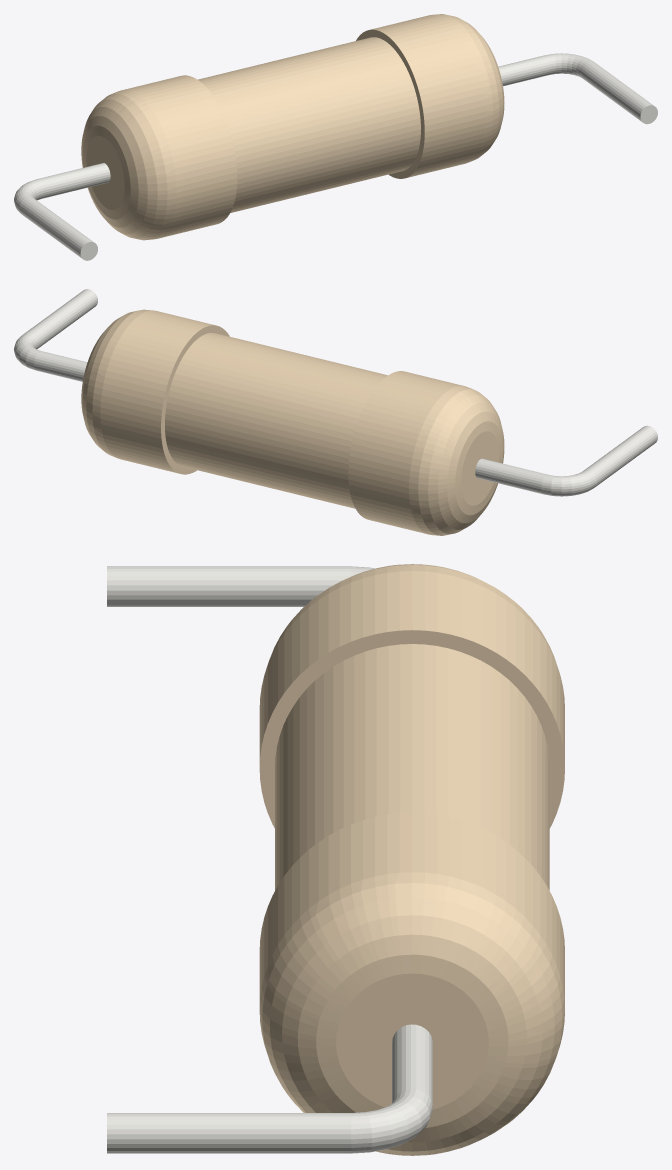
File: R_Axial_DIN0617_L17.0mm_D6.0mm_P25.40mm_Horizontal.glb
3 views of the same model, one above another, from view 1: azimuth 30°, elevation 25°; view 2: azimuth 150°, elevation 25°; view 3: azimuth 270°, elevation 25° (orthographic). The views are drawn at different scales.
Visible parts, largest first — view 1: Shape_IndexedFaceSet.004, Shape_IndexedFaceSet.008, Shape_IndexedFaceSet, Shape_IndexedFaceSet.010, Shape_IndexedFaceSet.001, Shape_IndexedFaceSet.012, Shape_IndexedFaceSet.009, Shape_IndexedFaceSet.015, Shape_IndexedFaceSet.013, Shape_IndexedFaceSet.005, Shape_IndexedFaceSet.002, Shape_IndexedFaceSet.007 (+1 smaller); view 2: Shape_IndexedFaceSet.004, Shape_IndexedFaceSet, Shape_IndexedFaceSet.008, Shape_IndexedFaceSet.010, Shape_IndexedFaceSet.001, Shape_IndexedFaceSet.012, Shape_IndexedFaceSet.009, Shape_IndexedFaceSet.015, Shape_IndexedFaceSet.013, Shape_IndexedFaceSet.014, Shape_IndexedFaceSet.005, Shape_IndexedFaceSet.002 (+1 smaller); view 3: Shape_IndexedFaceSet.001, Shape_IndexedFaceSet.004, Shape_IndexedFaceSet, Shape_IndexedFaceSet.008, Shape_IndexedFaceSet.003, Shape_IndexedFaceSet.009, Shape_IndexedFaceSet.015, Shape_IndexedFaceSet.006, Shape_IndexedFaceSet.007, Shape_IndexedFaceSet.005, Shape_IndexedFaceSet.010.
Boxes of the visible parts, x1,y1,x2,y2 form: Shape_IndexedFaceSet.004: [198, 37, 420, 212]; Shape_IndexedFaceSet.008: [122, 75, 237, 238]; Shape_IndexedFaceSet: [371, 15, 485, 177]; Shape_IndexedFaceSet.010: [81, 90, 176, 240]; Shape_IndexedFaceSet.001: [432, 14, 504, 161]; Shape_IndexedFaceSet.012: [86, 135, 124, 210]; Shape_IndexedFaceSet.009: [579, 60, 653, 121]; Shape_IndexedFaceSet.015: [19, 197, 93, 258]; Shape_IndexedFaceSet.013: [37, 163, 110, 198]; Shape_IndexedFaceSet.005: [498, 55, 551, 86]; Shape_IndexedFaceSet.002: [356, 29, 424, 178]; Shape_IndexedFaceSet.007: [545, 53, 591, 77]; Shape_IndexedFaceSet.004: [165, 333, 387, 508]; Shape_IndexedFaceSet: [100, 310, 214, 473]; Shape_IndexedFaceSet.008: [348, 371, 463, 534]; Shape_IndexedFaceSet.010: [409, 386, 504, 535]; Shape_IndexedFaceSet.001: [81, 309, 153, 457]; Shape_IndexedFaceSet.012: [461, 431, 499, 505]; Shape_IndexedFaceSet.009: [23, 289, 97, 349]; Shape_IndexedFaceSet.015: [583, 425, 657, 486]; Shape_IndexedFaceSet.013: [475, 458, 547, 493]; Shape_IndexedFaceSet.014: [541, 470, 596, 496]; Shape_IndexedFaceSet.005: [34, 351, 87, 381]; Shape_IndexedFaceSet.002: [161, 325, 229, 474]; Shape_IndexedFaceSet.001: [259, 872, 564, 1155]; Shape_IndexedFaceSet.004: [275, 644, 549, 890]; Shape_IndexedFaceSet: [259, 813, 564, 1005]; Shape_IndexedFaceSet.008: [259, 571, 564, 763]; Shape_IndexedFaceSet.003: [336, 973, 488, 1109]; Shape_IndexedFaceSet.009: [107, 1113, 351, 1153]; Shape_IndexedFaceSet.015: [107, 566, 351, 606]; Shape_IndexedFaceSet.006: [259, 630, 564, 828]; Shape_IndexedFaceSet.007: [351, 1089, 432, 1153]; Shape_IndexedFaceSet.005: [392, 1024, 432, 1104]; Shape_IndexedFaceSet.010: [268, 564, 556, 662].
Size of the model in its own units: 10.31 by 2.36 by 3.54.
